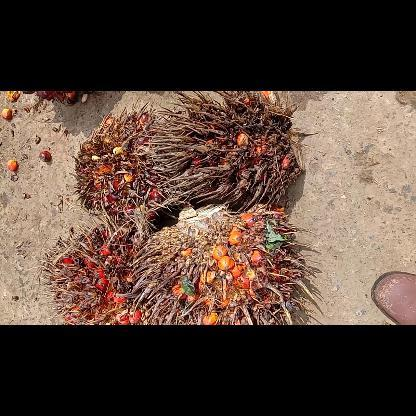Terlalu masak: (132, 200, 324, 324), (141, 91, 310, 216), (68, 100, 198, 222), (36, 206, 170, 324)
